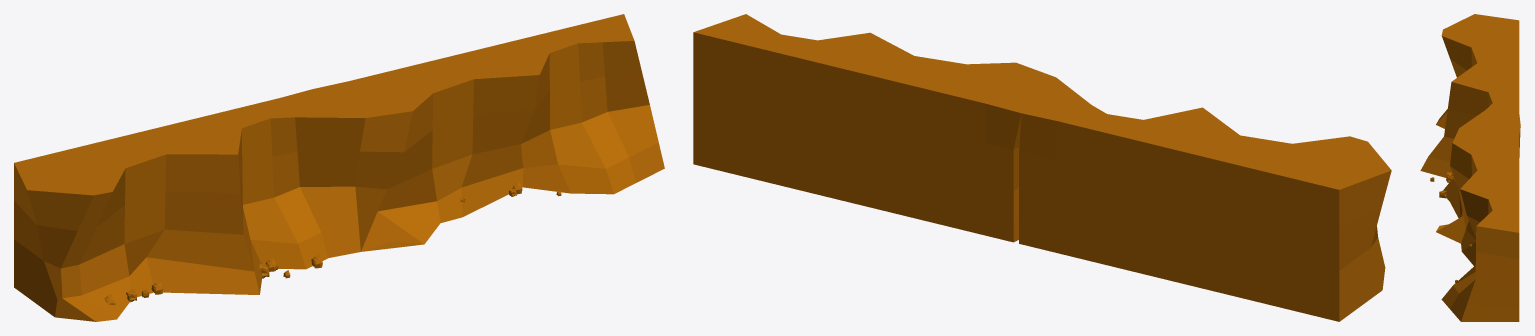
File: Geonosis_Wall_Klar.fbx
The picture shows the model from 3 angles, left to right: view 1: azimuth 30°, elevation 25°; view 2: azimuth 150°, elevation 25°; view 3: azimuth 270°, elevation 25°; orthographic projection. The views are drawn at different scales.
Visible parts, largest first — view 1: pCube23; view 2: pCube23; view 3: pCube23.
Boxes of the visible parts, <box> form: pCube23: <box>14,14,664,321</box>; pCube23: <box>693,14,1391,321</box>; pCube23: <box>1420,14,1520,321</box>.
Size of the model in its own units: 1615 by 328 by 312.
